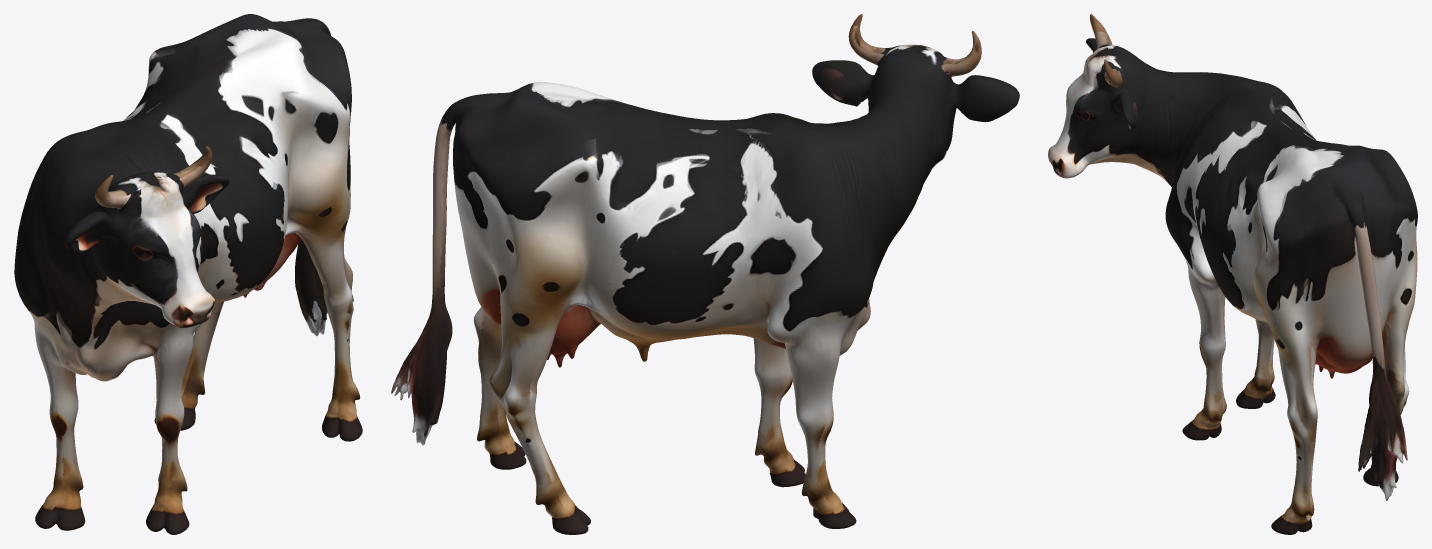
File: CowStatic.lite.glb
3 views of the same model, side by side, from view 1: azimuth 30°, elevation 25°; view 2: azimuth 150°, elevation 25°; view 3: azimuth 270°, elevation 25° (orthographic). The views are drawn at different scales.
Visible parts, largest first — view 1: mesh_uvwarp.003; view 2: mesh_uvwarp.003; view 3: mesh_uvwarp.003.
Boxes of the visible parts, box(x1,y1,x2,y2) form: mesh_uvwarp.003: box(14, 14, 362, 534); mesh_uvwarp.003: box(391, 14, 1019, 534); mesh_uvwarp.003: box(1048, 14, 1417, 534).
Bounding box in the file's own units: 1.99 × 1.85 × 1.67.
Materials: 1 (1 with a texture image).
